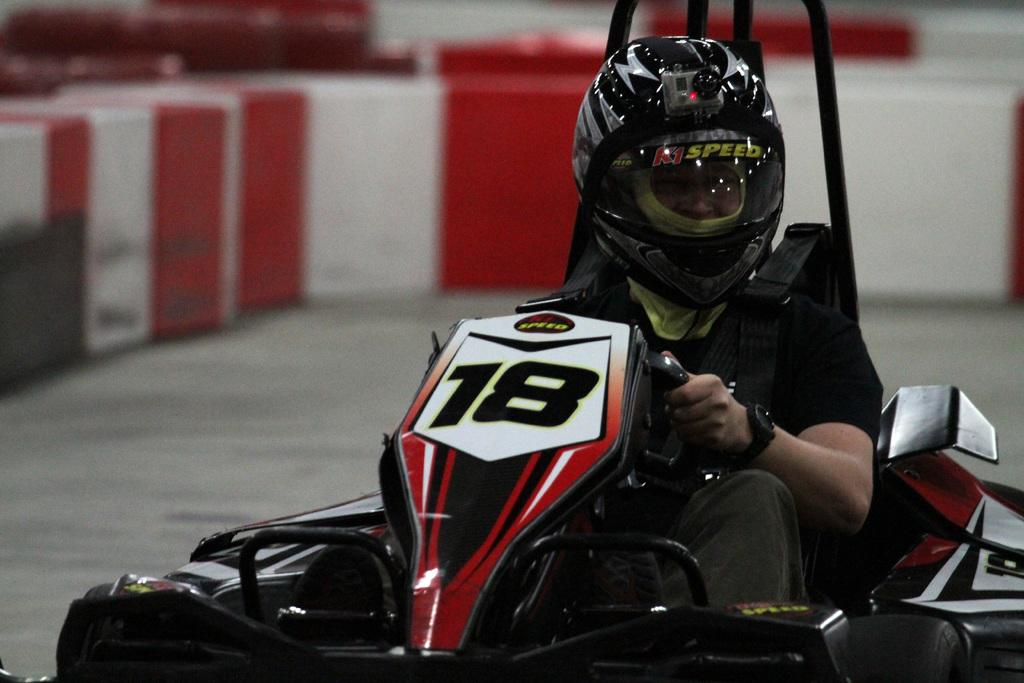helmet: (572, 35, 787, 312)
